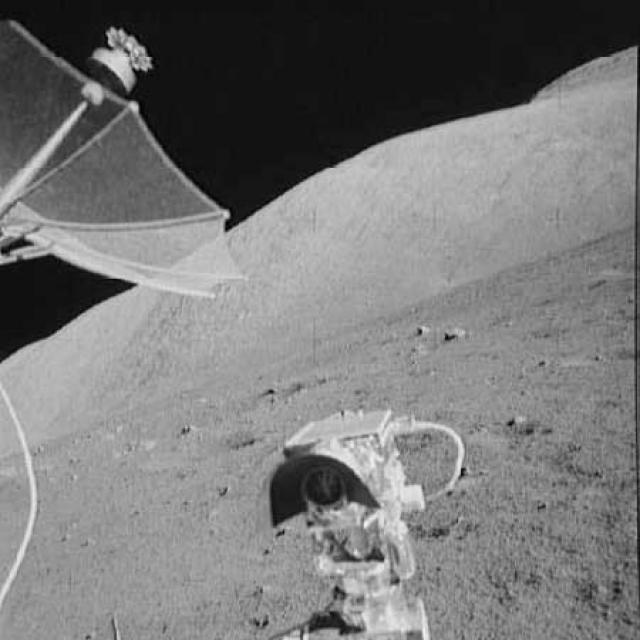artifact: (1, 11, 248, 303), (263, 404, 471, 638), (0, 386, 45, 620)
crater: (0, 373, 324, 462), (133, 429, 264, 465), (552, 340, 638, 370)
rock: (439, 322, 468, 346), (412, 319, 431, 341)
